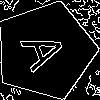A: (20, 25, 78, 74)
